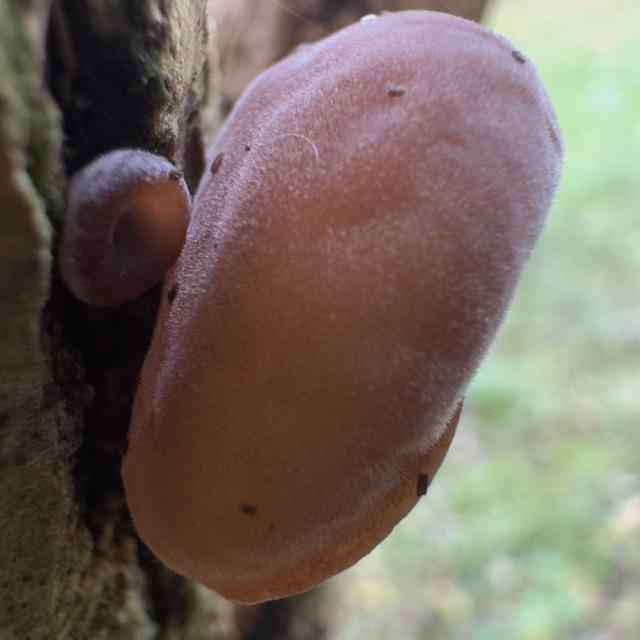Matang: (99, 7, 572, 613)
primordia: (54, 147, 198, 312)
